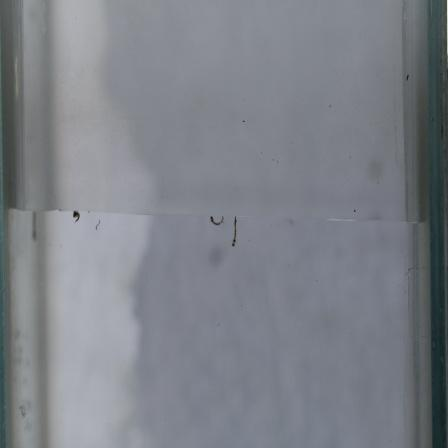Jentik-Nyamuk: (208, 213, 243, 252), (67, 209, 85, 231)
